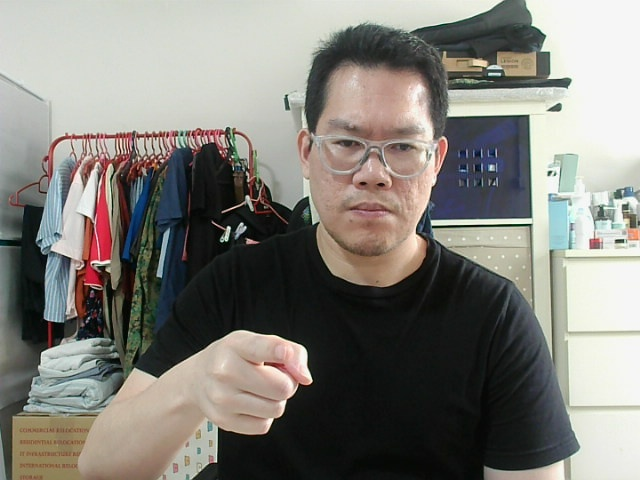you: (195, 343, 303, 426)
